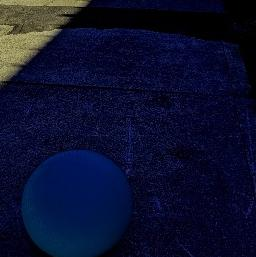algae: (18, 147, 134, 257)
